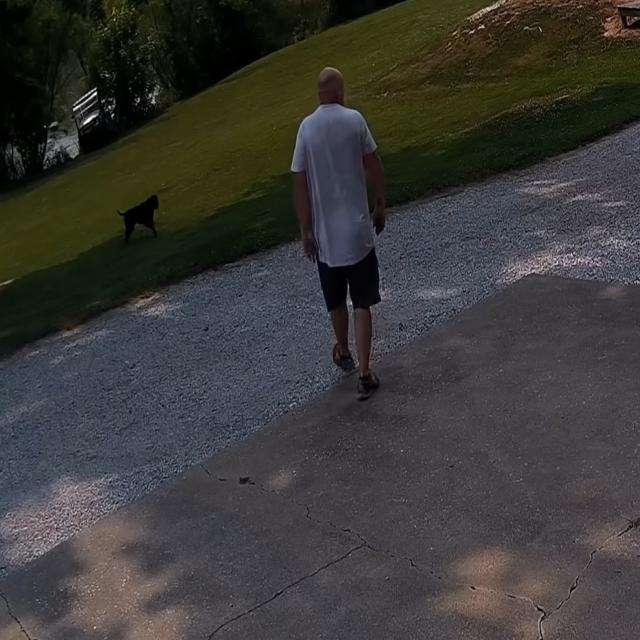standing: (291, 67, 386, 399)
